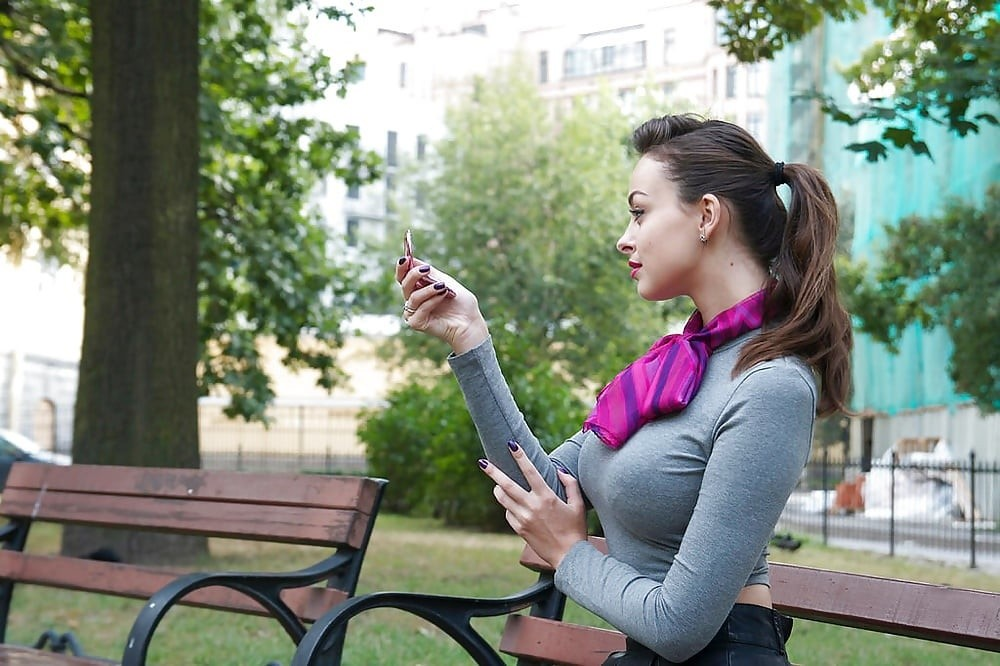face_no_mask: (613, 125, 771, 301)
